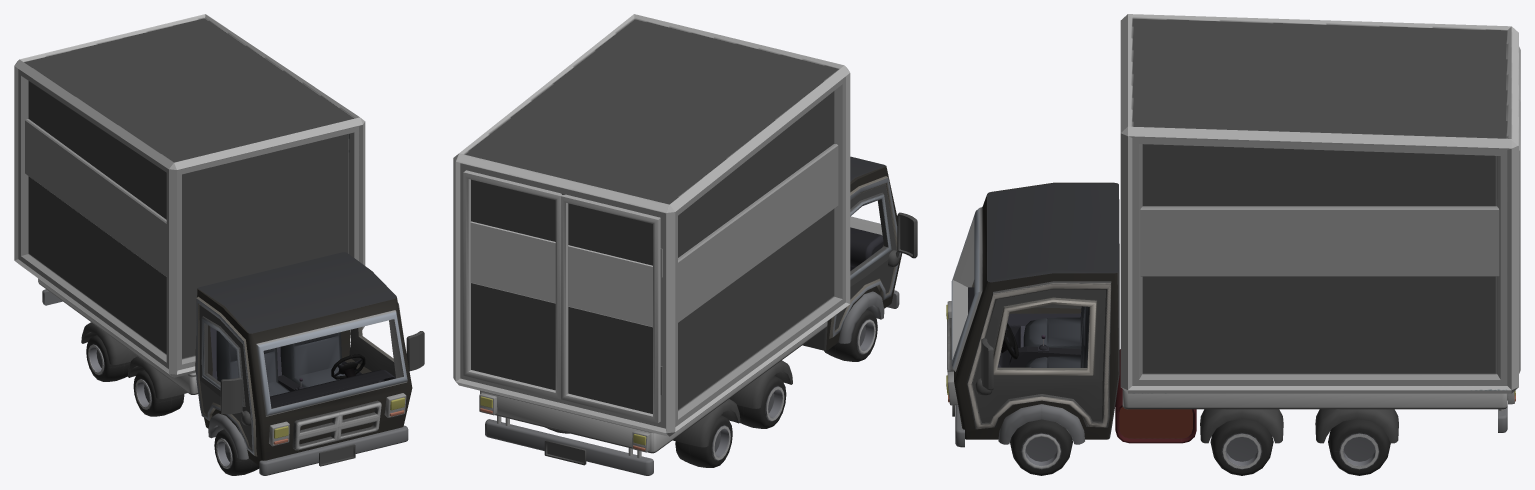
The model's file is Caminhao.fbx.
3 views of the same model, side by side, from view 1: azimuth 30°, elevation 25°; view 2: azimuth 150°, elevation 25°; view 3: azimuth 270°, elevation 25° (orthographic). The views are drawn at different scales.
Visible parts, largest first — view 1: Carga, Boleia, PortaBoleia.L, Bancos, Rodas, Plataforma, Grade, PortaBoleia.R, Painel, Farois, Volante; view 2: Carga, Porta.L, Porta.R, Plataforma, Boleia, PortaBoleia.L, Rodas, Painel, Farois.001; view 3: Carga, Boleia, PortaBoleia.R, Plataforma, Rodas, Tanque, Bancos, Console.
Boxes of the visible parts, x1,y1,x2,y2 form: Carga: (14, 14, 365, 377); Boleia: (42, 252, 412, 475); PortaBoleia.L: (196, 296, 257, 456); Bancos: (216, 330, 345, 396); Rodas: (86, 335, 259, 475); Plataforma: (38, 278, 198, 398); Grade: (292, 400, 381, 450); PortaBoleia.R: (349, 303, 424, 377); Painel: (270, 369, 395, 408); Farois: (269, 393, 406, 446); Volante: (331, 354, 365, 379); Carga: (453, 14, 850, 436); Porta.L: (561, 194, 662, 422); Porta.R: (463, 170, 561, 399); Plataforma: (480, 321, 827, 458); Boleia: (485, 156, 902, 475); PortaBoleia.L: (829, 176, 917, 338); Rodas: (545, 309, 877, 467); Painel: (850, 227, 883, 266); Farois.001: (479, 393, 650, 452); Carga: (1120, 14, 1518, 393); Boleia: (951, 182, 1507, 447); PortaBoleia.R: (966, 281, 1111, 429); Plataforma: (1122, 389, 1507, 443); Rodas: (1010, 418, 1390, 475); Tanque: (1115, 349, 1196, 443); Bancos: (1023, 306, 1089, 367); Console: (1009, 346, 1081, 367).
Bounding box in the file's own units: 261 × 360 × 517.
